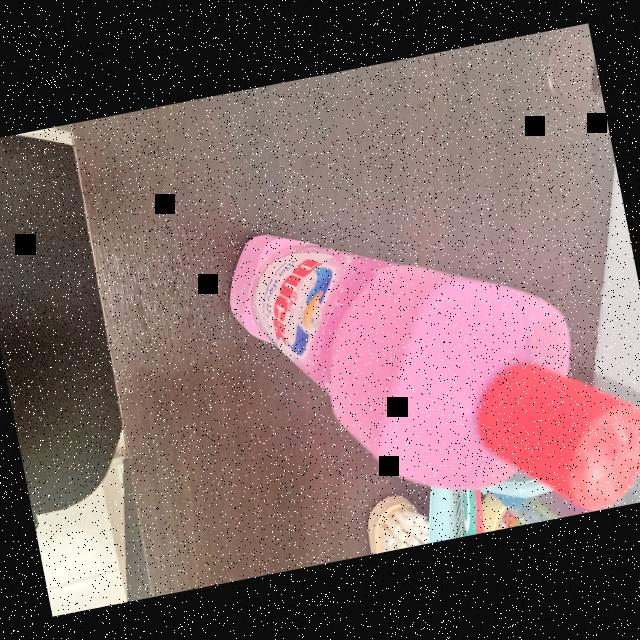chemical_plastic_bottle: (209, 166, 640, 573)
